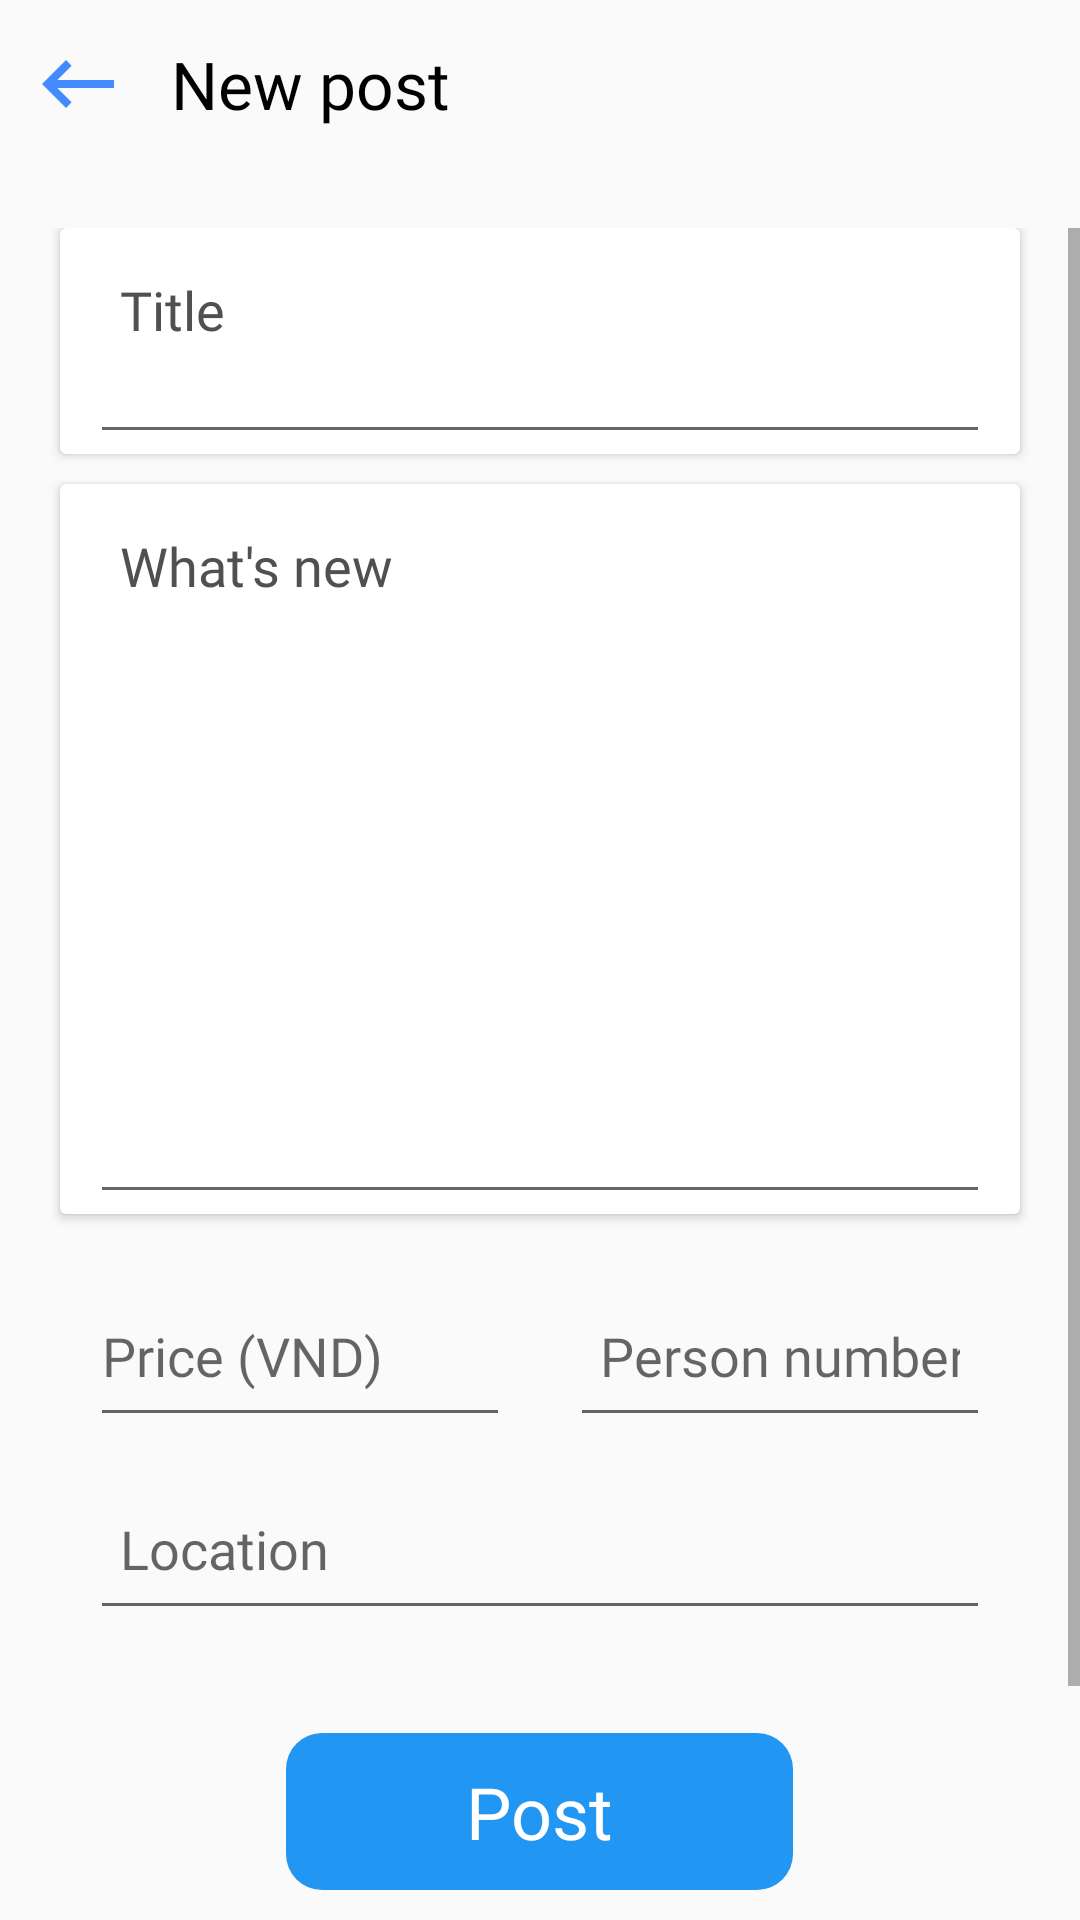

Screen size 1080 × 1920. Icon name, then its center in pixels as [x,y]:
back: [78,84]
